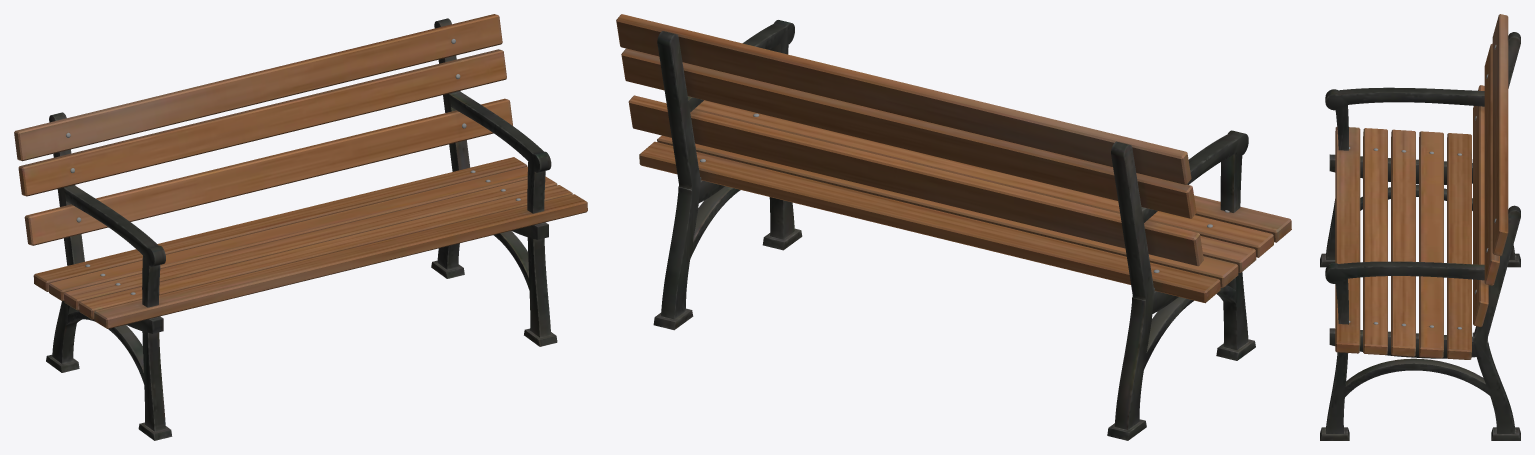
The model's file is park-bench.glb.
3 renders of one model, left to right at view 1: azimuth 30°, elevation 25°; view 2: azimuth 150°, elevation 25°; view 3: azimuth 270°, elevation 25°, orthographic. The views are drawn at different scales.
Visible parts, largest first — view 1: park-bench_body; view 2: park-bench_body; view 3: park-bench_body.
Boxes of the visible parts, bbox=[...] form: park-bench_body: bbox=[14, 14, 587, 440]; park-bench_body: bbox=[616, 14, 1291, 440]; park-bench_body: bbox=[1320, 14, 1520, 440].
Size of the model in its own units: 1.8 by 0.8843 by 0.7041.
Materials: 1 (1 with a texture image).
